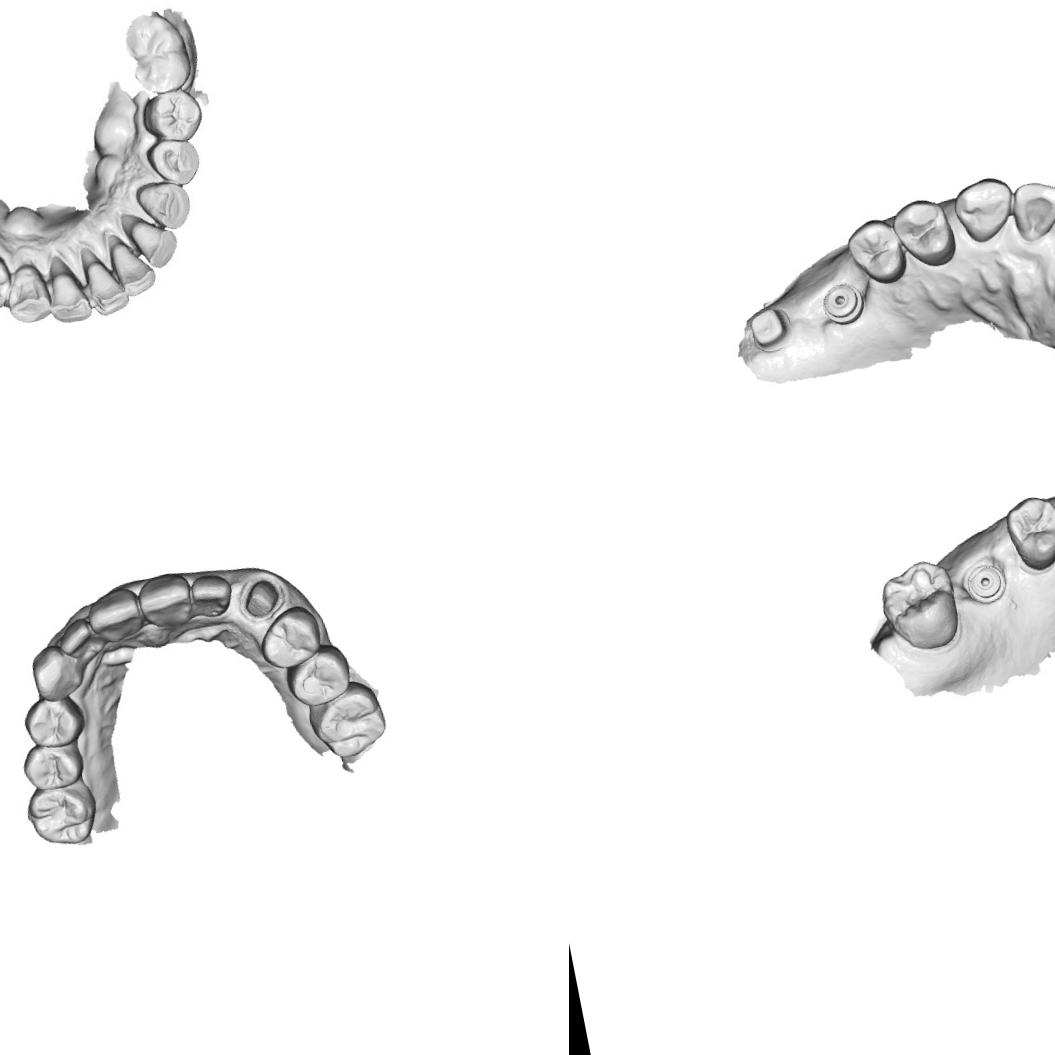abutment: (744, 300, 792, 352)
canine: (948, 171, 1020, 246), (130, 173, 196, 237), (26, 638, 87, 704), (0, 261, 52, 327)
crown: (232, 570, 288, 624)
implant: (816, 281, 866, 328), (962, 559, 1008, 608)
incisor: (36, 254, 96, 327), (79, 242, 134, 319), (81, 584, 148, 647), (121, 210, 182, 276), (134, 568, 196, 632), (106, 235, 159, 302), (1005, 174, 1055, 243), (186, 568, 236, 620), (53, 614, 104, 664)
molar: (871, 552, 966, 658), (115, 5, 202, 102), (301, 673, 391, 764), (22, 772, 102, 852), (280, 638, 356, 710)
premolar: (887, 193, 959, 274), (252, 601, 326, 673), (840, 213, 910, 289), (136, 84, 210, 150), (996, 495, 1055, 577), (18, 689, 88, 752), (17, 734, 88, 794), (142, 129, 206, 192), (0, 248, 20, 315)
